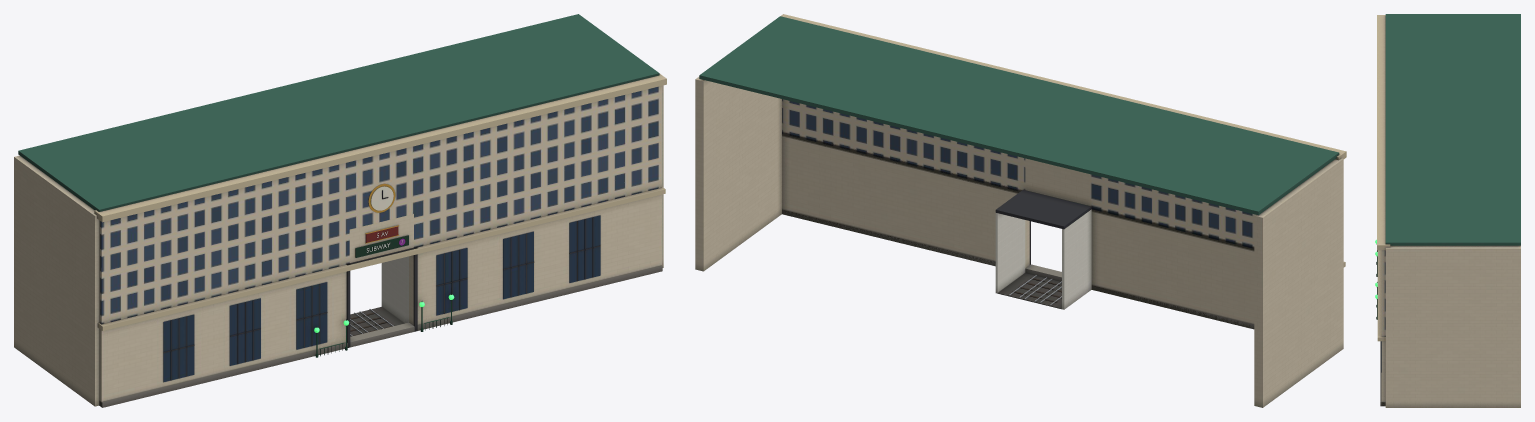
File: metro_boca.glb
The picture shows the model from 3 angles, left to right: view 1: azimuth 30°, elevation 25°; view 2: azimuth 150°, elevation 25°; view 3: azimuth 270°, elevation 25°; orthographic projection. The views are drawn at different scales.
Parts seen in each view (by area): view 1: metro_boca; view 2: metro_boca; view 3: metro_boca.
Part boxes in pixels (x1=…): metro_boca: x1=14, y1=14, x2=666, y2=407; metro_boca: x1=695, y1=14, x2=1346, y2=407; metro_boca: x1=1375, y1=14, x2=1520, y2=407.
Size of the model in its own units: 81.2 by 26.7 by 21.56.
1 material, 1 textured.
